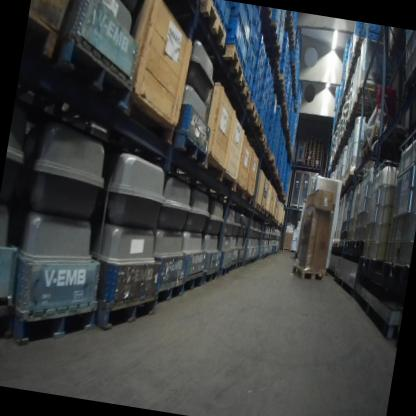pallet: (52, 34, 140, 114), (10, 287, 97, 357), (92, 279, 159, 338), (201, 39, 247, 83), (192, 0, 231, 48), (169, 129, 211, 167), (156, 272, 185, 306), (289, 263, 326, 284), (0, 299, 17, 341), (352, 37, 383, 58), (231, 75, 253, 103), (182, 268, 204, 295), (239, 115, 266, 136), (241, 99, 261, 124), (356, 80, 378, 102), (245, 131, 268, 149), (350, 98, 370, 116), (201, 265, 218, 286), (266, 19, 280, 44), (254, 144, 272, 159), (271, 41, 283, 61), (362, 137, 372, 159), (259, 6, 273, 21), (274, 73, 286, 89), (217, 264, 230, 278), (276, 87, 287, 101), (273, 60, 281, 78), (349, 53, 358, 67), (265, 153, 275, 165), (229, 260, 237, 272), (281, 100, 288, 113), (253, 201, 261, 211), (236, 259, 243, 269), (304, 154, 314, 159), (259, 206, 265, 214), (272, 163, 277, 172), (274, 169, 279, 178), (284, 111, 289, 120), (312, 164, 321, 169), (312, 159, 321, 164), (312, 162, 321, 166), (313, 157, 322, 161), (313, 155, 322, 159), (314, 148, 323, 152), (314, 143, 323, 147), (303, 164, 312, 168), (303, 161, 312, 165), (303, 159, 312, 163), (304, 157, 313, 161), (305, 152, 314, 156), (305, 150, 314, 154), (305, 147, 314, 151), (305, 145, 314, 149), (306, 140, 315, 144), (314, 150, 322, 154), (313, 153, 322, 156), (314, 146, 323, 149), (306, 143, 315, 146)
small_load_carrier: (223, 15, 245, 57), (227, 1, 247, 35), (215, 0, 232, 33), (237, 34, 249, 71), (240, 15, 252, 49), (244, 60, 256, 92), (247, 42, 259, 73), (250, 24, 262, 53), (253, 12, 264, 38), (244, 4, 254, 29), (249, 80, 259, 105), (242, 53, 250, 79), (248, 18, 256, 42), (245, 36, 253, 59), (252, 69, 260, 91), (254, 56, 263, 75), (254, 51, 263, 69), (209, 0, 220, 14), (256, 101, 264, 119), (251, 5, 258, 25), (258, 88, 266, 105), (260, 77, 268, 94), (269, 104, 276, 122), (265, 129, 272, 147), (256, 48, 264, 63), (261, 108, 267, 127), (262, 68, 270, 82), (280, 51, 288, 65), (270, 94, 277, 110), (254, 92, 260, 110), (260, 58, 266, 76), (258, 70, 264, 87), (266, 74, 272, 91), (279, 61, 286, 75), (224, 0, 232, 12), (267, 117, 273, 133), (282, 31, 289, 44), (281, 41, 288, 54), (354, 27, 362, 37), (241, 3, 248, 14), (361, 27, 368, 38), (256, 81, 261, 96), (263, 97, 268, 112), (373, 24, 381, 33), (367, 23, 375, 32), (355, 21, 363, 30), (265, 88, 270, 101), (372, 32, 380, 40), (366, 31, 373, 39), (362, 22, 368, 29), (250, 4, 254, 11)
